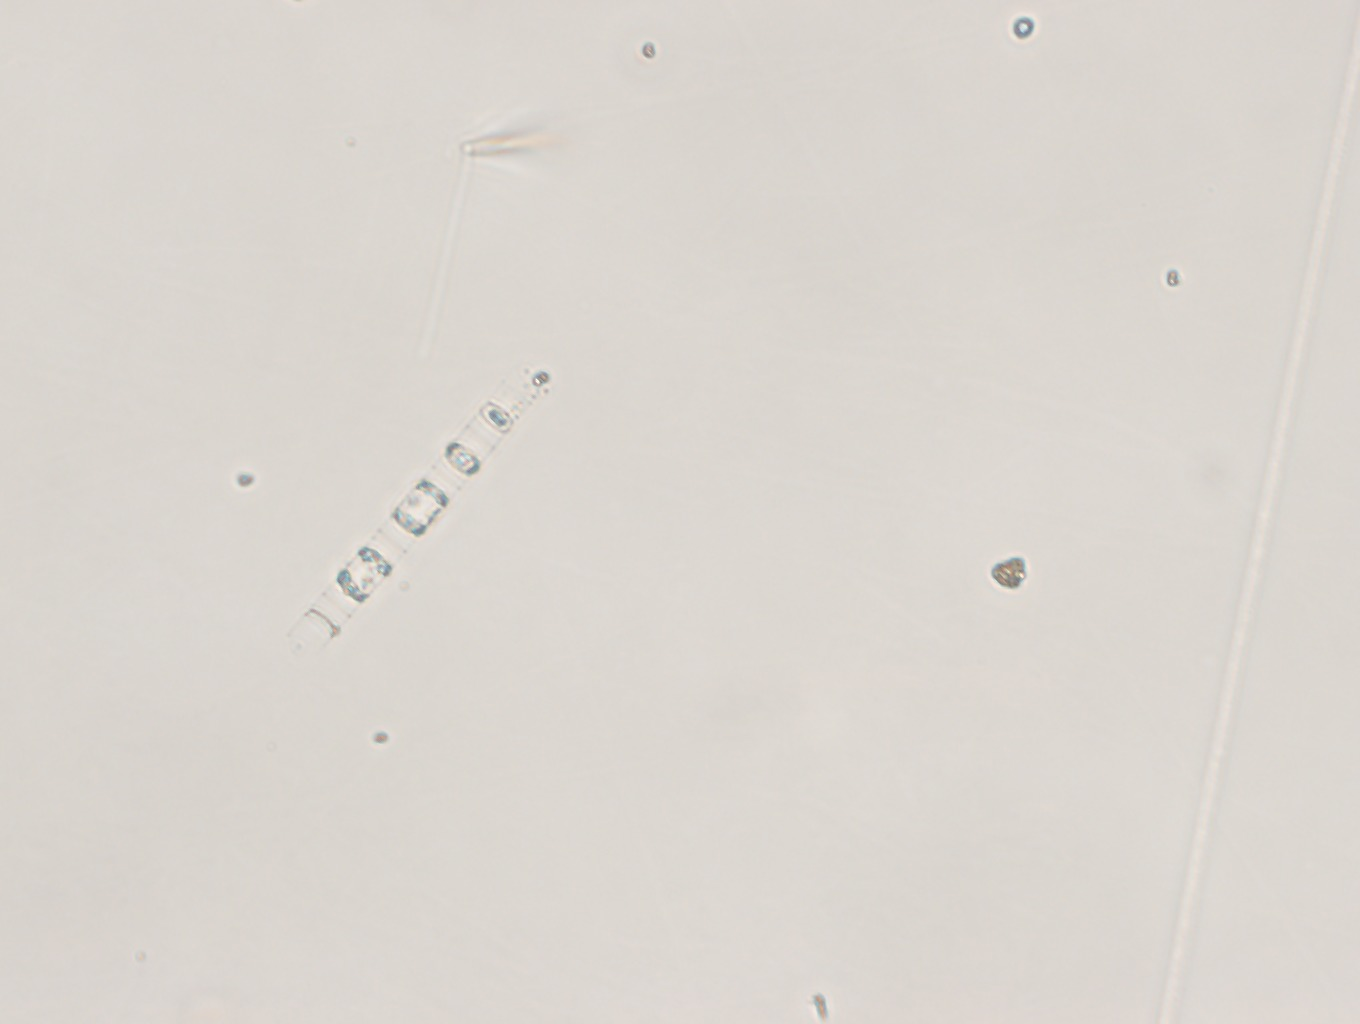skeletonema: (280, 336, 566, 663)
